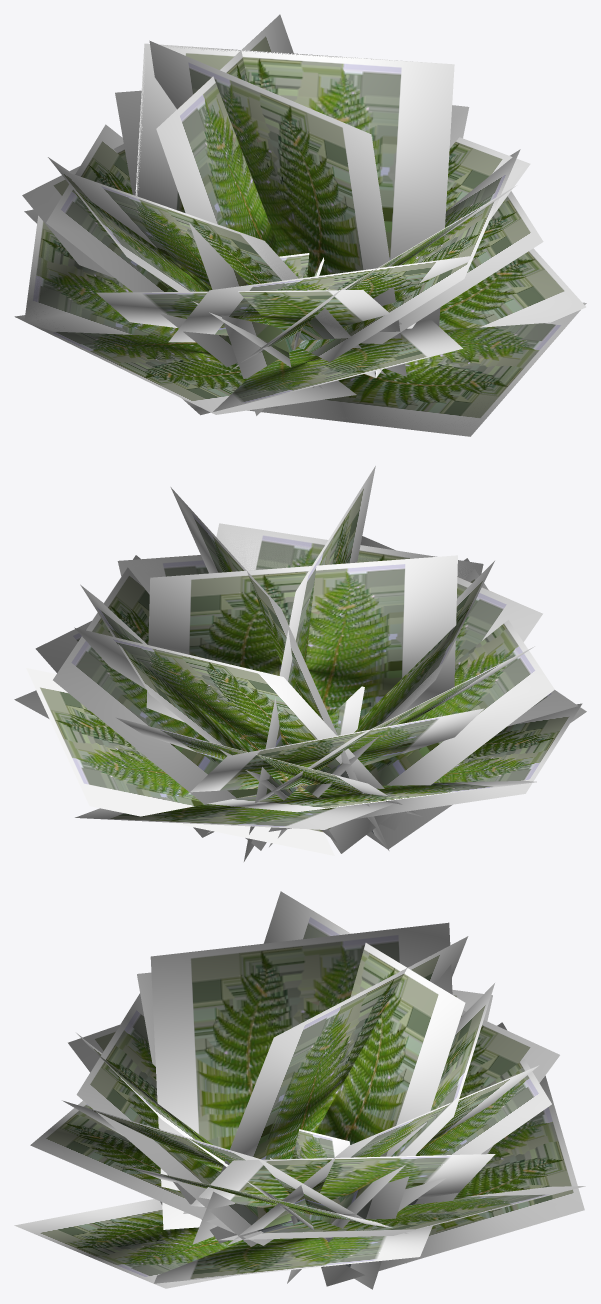
The model's file is Farn2.gltf.
3 renders of one model, top to bottom at view 1: azimuth 30°, elevation 25°; view 2: azimuth 150°, elevation 25°; view 3: azimuth 270°, elevation 25°, orthographic.
Parts seen in each view (by area): view 1: Farn2; view 2: Farn2; view 3: Farn2.
Boxes of the visible parts, x1,y1,x2,y2 form: Farn2: [14, 14, 586, 436]; Farn2: [14, 466, 586, 861]; Farn2: [14, 891, 585, 1289].
Size of the model in its own units: 11.83 by 6.65 by 12.25.
Materials: 1 (1 with a texture image).
